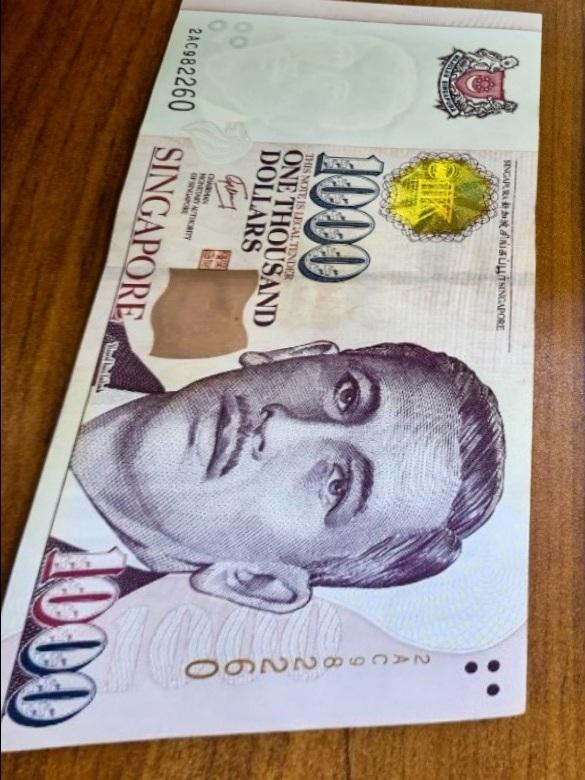1000SingaporeDollar: (18, 25, 521, 716)
